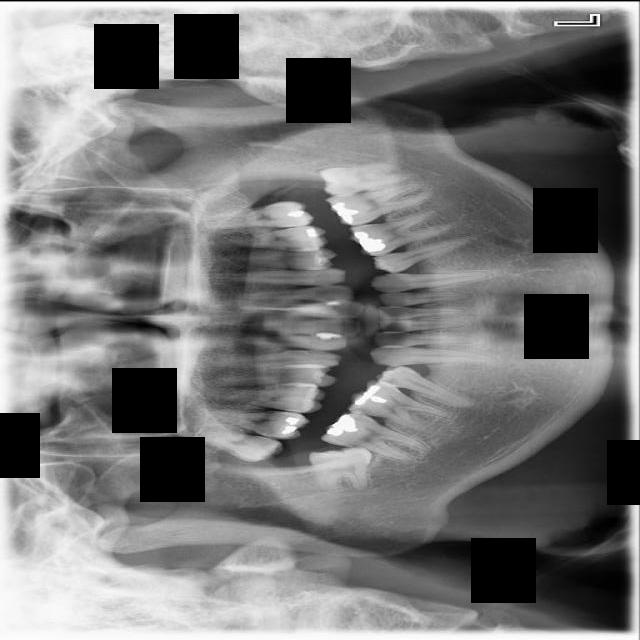3M ESPE Implant: (185, 424, 286, 466)
52: (342, 368, 408, 429), (317, 398, 381, 459), (323, 179, 379, 237), (257, 404, 312, 445), (347, 221, 403, 257), (282, 221, 330, 254), (268, 197, 315, 229), (309, 297, 365, 318), (301, 318, 362, 337), (290, 246, 338, 270)
73: (611, 12, 619, 20)
BioHorizons Implant: (199, 198, 315, 233)
Biomet 3i Implant: (319, 157, 413, 199)
Blue Sky Bio Implant: (325, 179, 433, 229)
Caries: (192, 404, 311, 440)
Implant: (320, 402, 433, 465)
Keystone Dental Implant: (305, 440, 373, 495)
